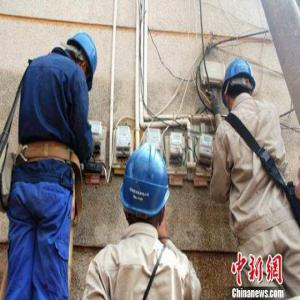blue: (122, 146, 174, 229), (68, 31, 101, 91), (222, 59, 257, 111)
